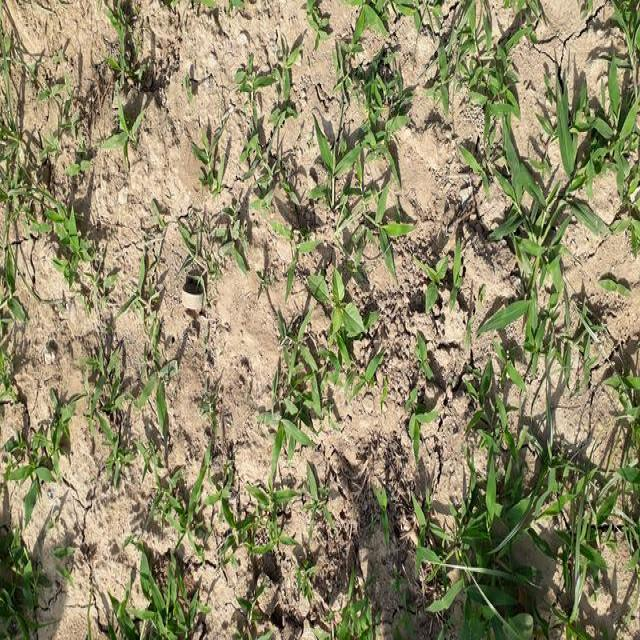weed: (437, 397, 639, 640), (462, 130, 624, 349), (322, 24, 516, 141), (133, 472, 220, 640), (301, 154, 391, 294), (278, 299, 336, 473), (546, 4, 636, 110), (180, 171, 233, 290), (79, 383, 125, 511), (16, 223, 71, 317), (18, 448, 68, 541), (236, 84, 288, 168)
